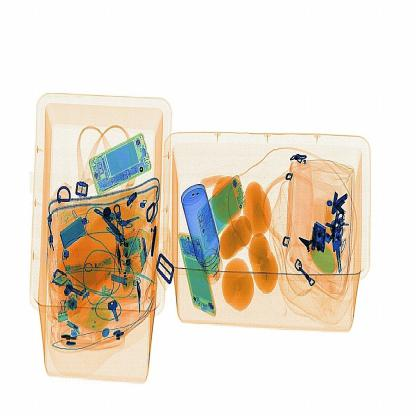gun: (292, 230, 322, 263)
